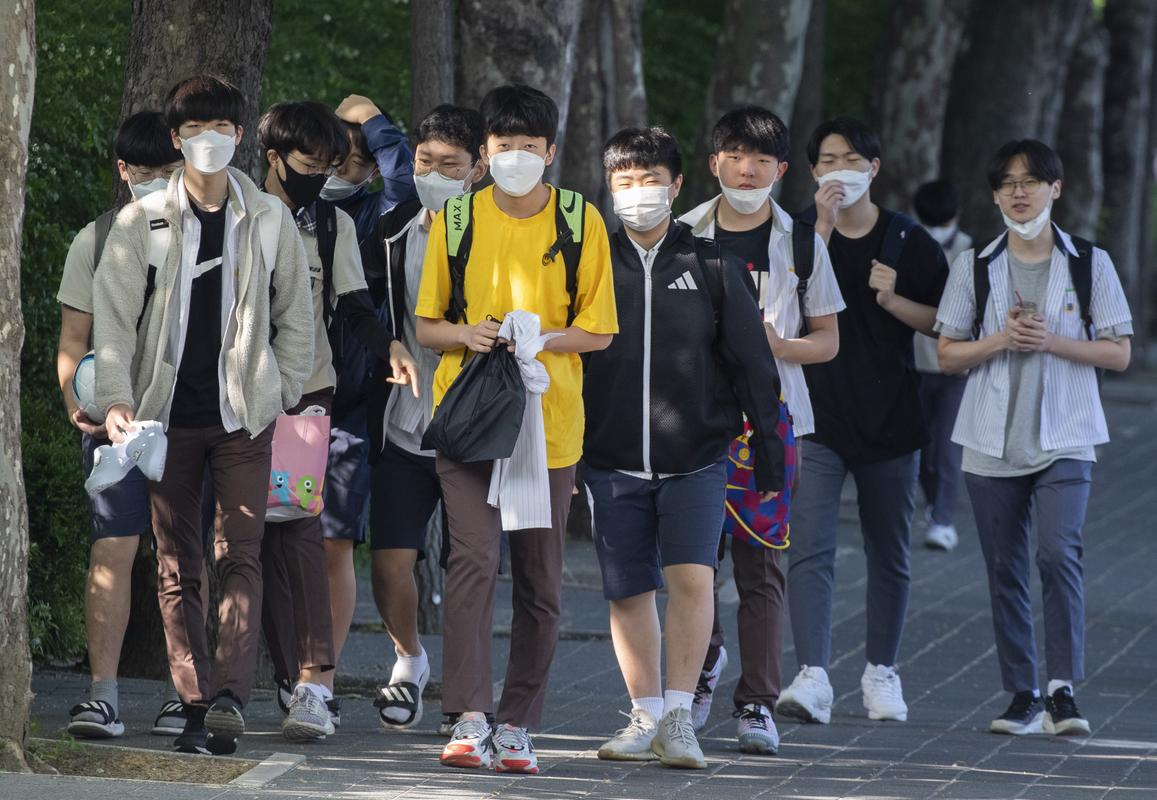mask: (608, 156, 677, 236), (483, 111, 552, 190), (176, 96, 240, 173)
